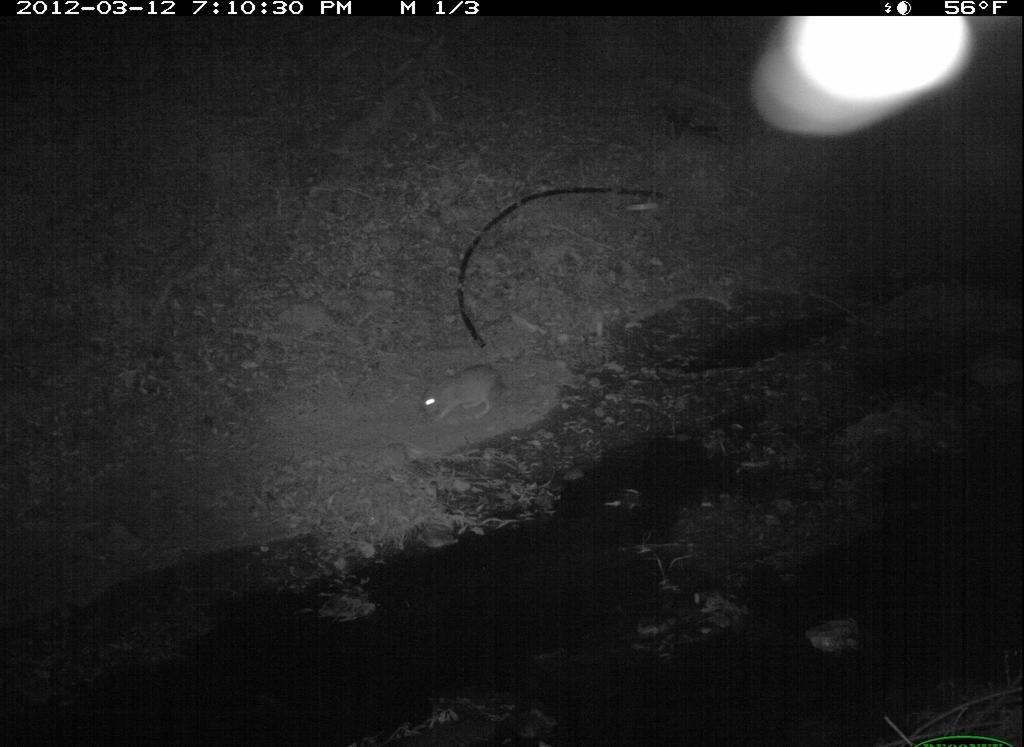rabbit: (408, 349, 506, 432)
